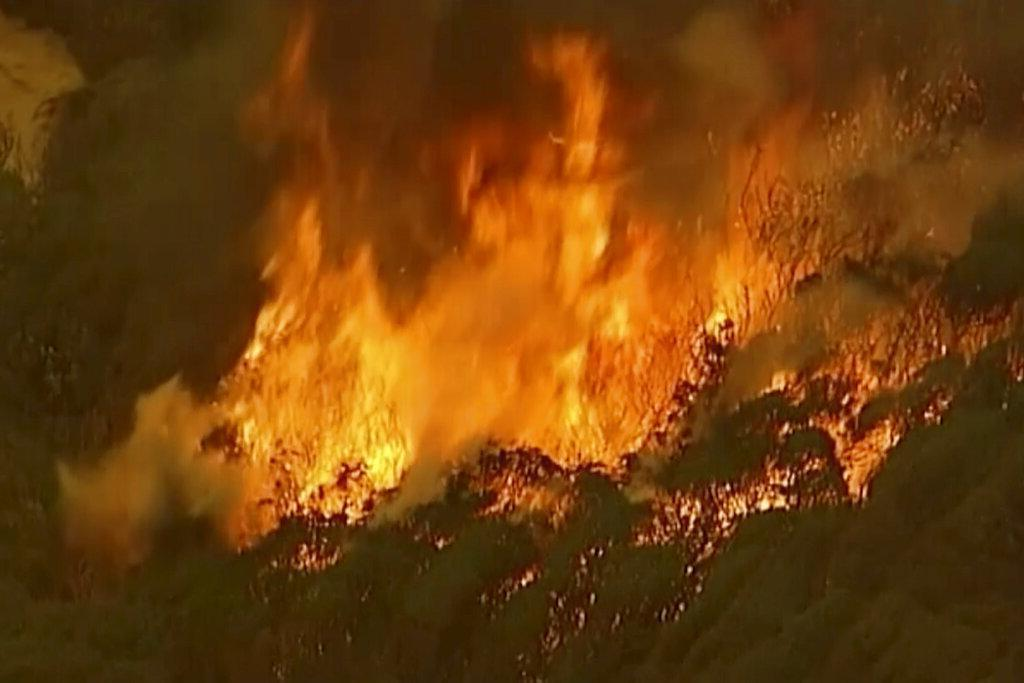Fire: (208, 14, 1017, 608)
